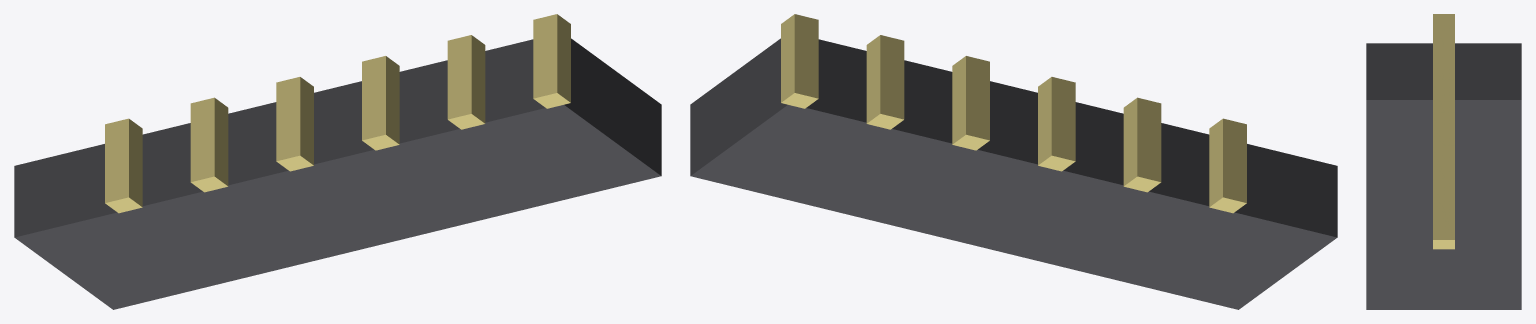
The model's file is header.glb.
The picture shows the model from 3 angles, left to right: view 1: azimuth 30°, elevation 25°; view 2: azimuth 150°, elevation 25°; view 3: azimuth 270°, elevation 25°; orthographic projection. The views are drawn at different scales.
Bounding box in the file's own units: 16 × 3.7 × 5.
